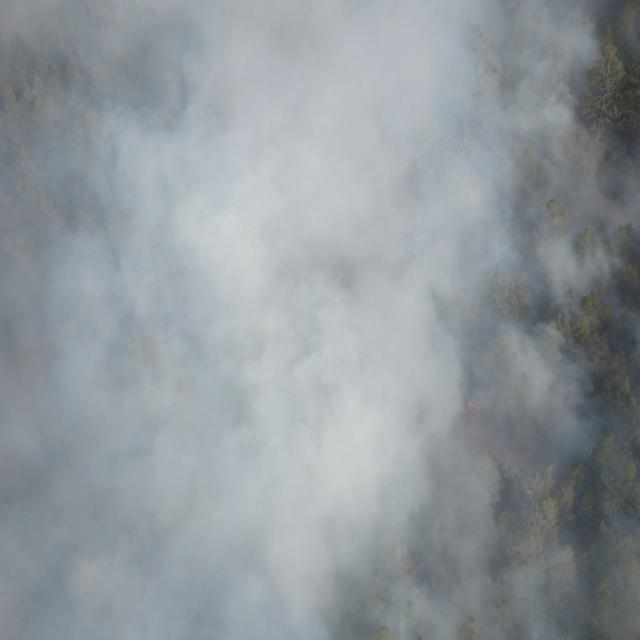fire: (468, 398, 484, 413)
smoke: (0, 0, 640, 640)
